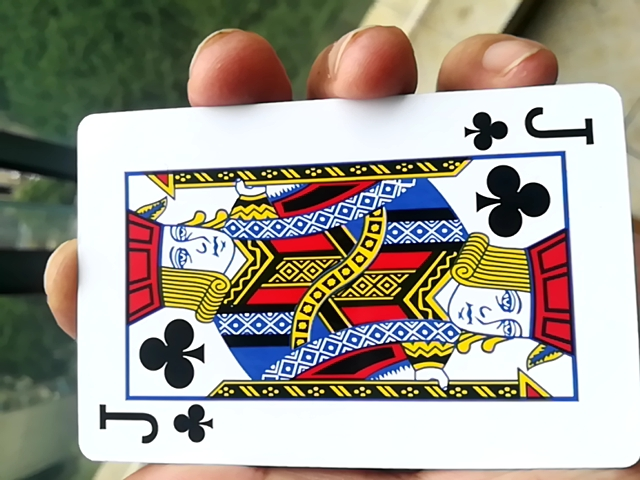mh j: (61, 98, 629, 474)
